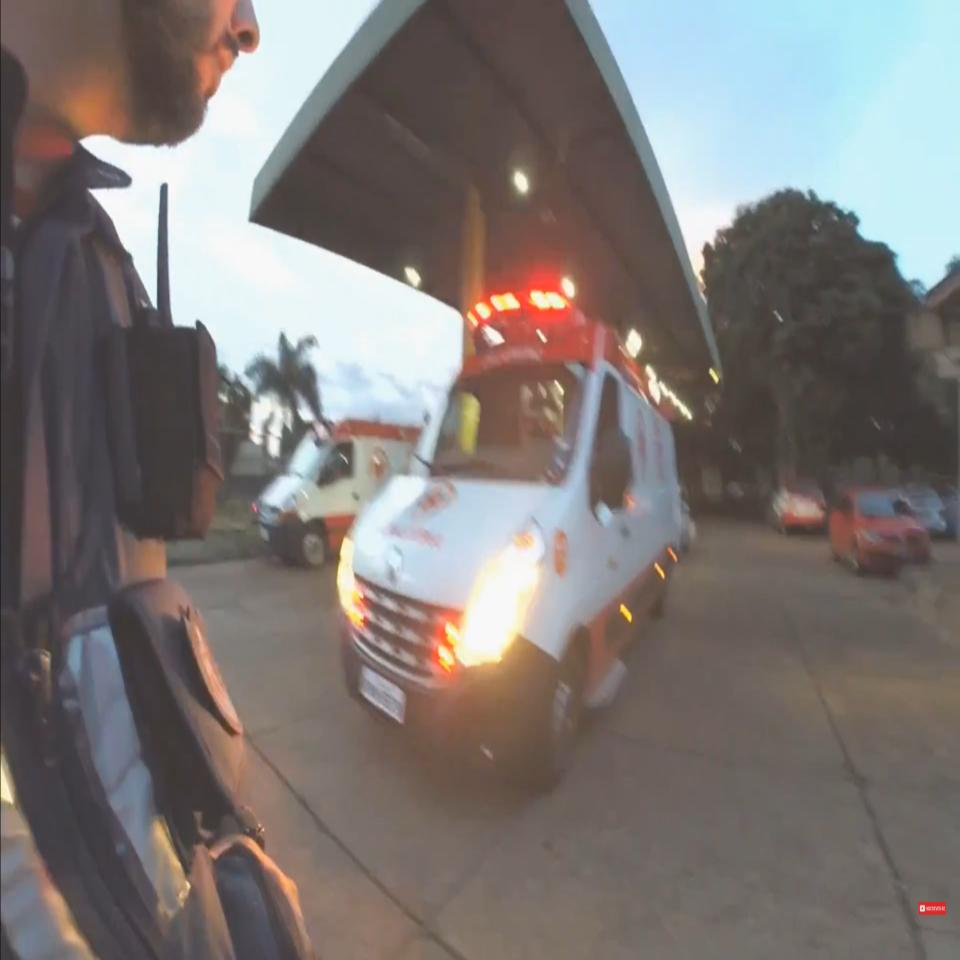ambulancia: (338, 286, 686, 792), (254, 412, 421, 577)
